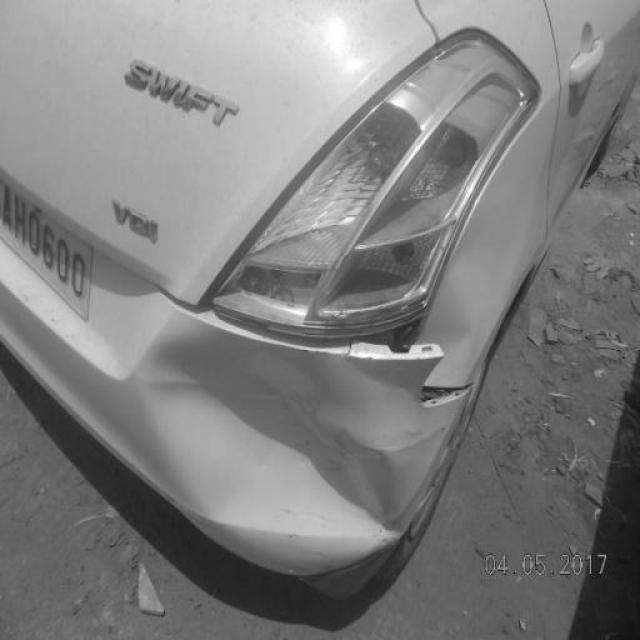dent: (147, 326, 443, 543), (426, 298, 474, 388)
misalignment: (332, 328, 440, 357)
shatter: (226, 36, 531, 328)
